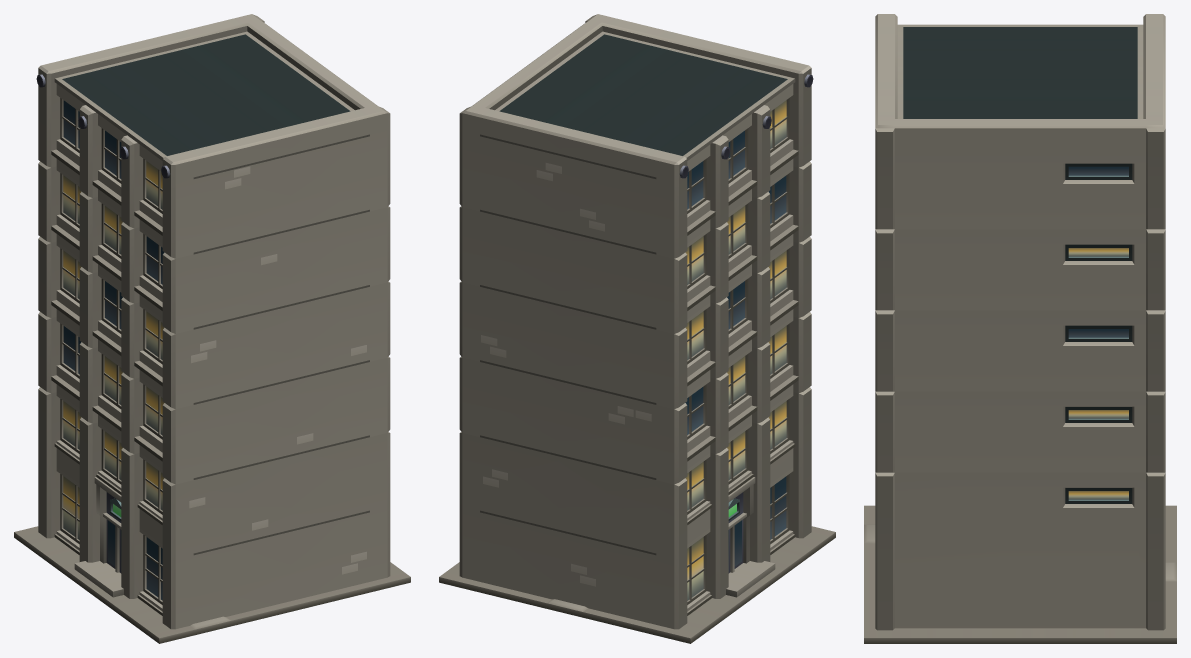
File: Building_16C.fbx
The picture shows the model from 3 angles, left to right: view 1: azimuth 30°, elevation 25°; view 2: azimuth 150°, elevation 25°; view 3: azimuth 270°, elevation 25°; orthographic projection. The views are drawn at different scales.
Parts seen in each view (by area): view 1: Building_16C, Window_Lights_16C; view 2: Building_16C, Window_Lights_16C; view 3: Building_16C, Window_Lights_16C.
Part boxes in pixels (bbox=[...]): Building_16C: bbox=[14, 14, 410, 643]; Window_Lights_16C: bbox=[63, 161, 164, 539]; Building_16C: bbox=[439, 14, 835, 643]; Window_Lights_16C: bbox=[685, 100, 786, 600]; Building_16C: bbox=[864, 14, 1176, 643]; Window_Lights_16C: bbox=[1068, 248, 1128, 499].
Size of the model in its own units: 14 by 25.1 by 14.
